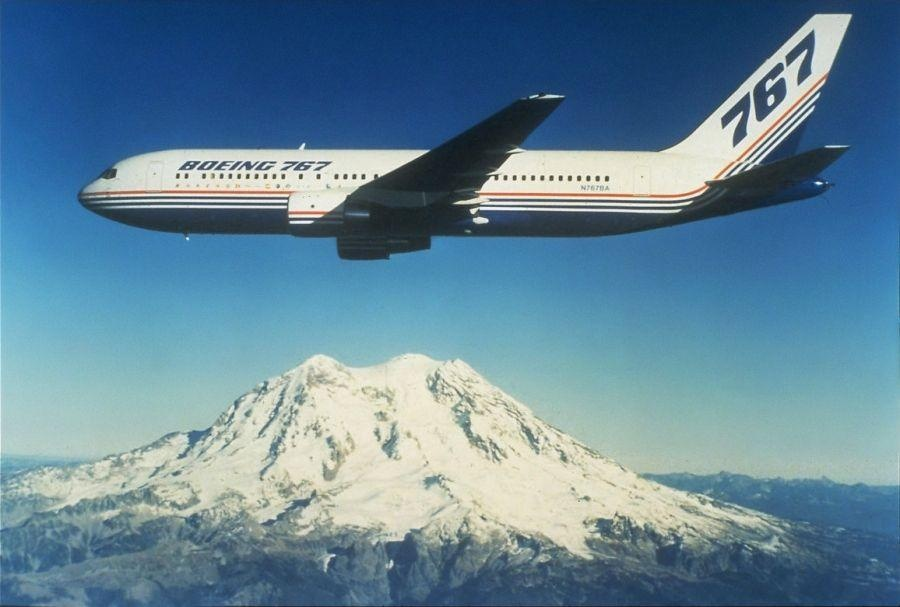airplane: (69, 11, 858, 259)
